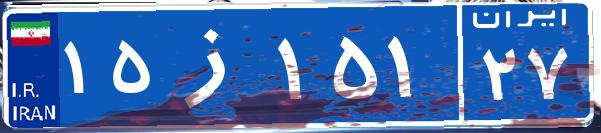1: (385, 28, 445, 110), (273, 28, 330, 110), (57, 26, 110, 107)
2: (475, 38, 525, 113)
5: (330, 28, 385, 110), (110, 28, 158, 105)
7: (525, 38, 570, 115)
ز: (158, 15, 273, 115)
